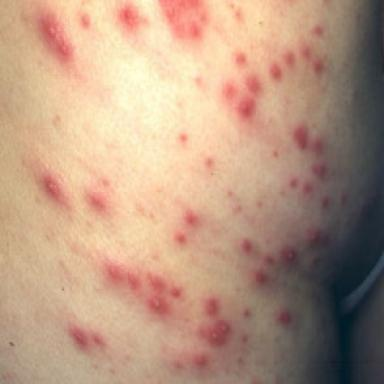acne: (160, 0, 207, 39), (38, 12, 73, 60), (104, 260, 140, 289), (200, 320, 231, 346), (119, 5, 139, 29), (43, 173, 61, 199), (87, 190, 108, 212), (148, 293, 169, 314), (69, 326, 88, 349), (148, 273, 167, 292), (238, 96, 255, 117), (294, 125, 307, 149), (246, 75, 260, 93), (281, 246, 296, 262), (313, 164, 327, 179), (307, 229, 320, 245), (205, 298, 217, 315), (277, 310, 291, 324), (185, 210, 198, 224), (223, 83, 235, 98), (255, 270, 267, 284), (193, 356, 208, 367), (270, 64, 281, 78), (313, 138, 324, 152), (92, 333, 103, 346), (81, 14, 91, 28), (175, 231, 186, 243), (241, 239, 252, 251), (284, 52, 294, 65), (313, 25, 324, 36), (236, 53, 246, 65), (301, 46, 311, 58), (179, 132, 188, 144), (205, 157, 214, 169), (313, 61, 322, 72), (170, 287, 181, 296), (304, 183, 313, 194), (235, 8, 242, 21), (172, 360, 183, 368), (322, 197, 329, 208), (195, 76, 203, 85), (243, 309, 251, 317), (290, 179, 297, 188), (102, 178, 109, 187), (227, 190, 234, 197), (242, 335, 248, 343), (236, 205, 242, 211), (257, 201, 262, 208), (273, 151, 278, 157)
